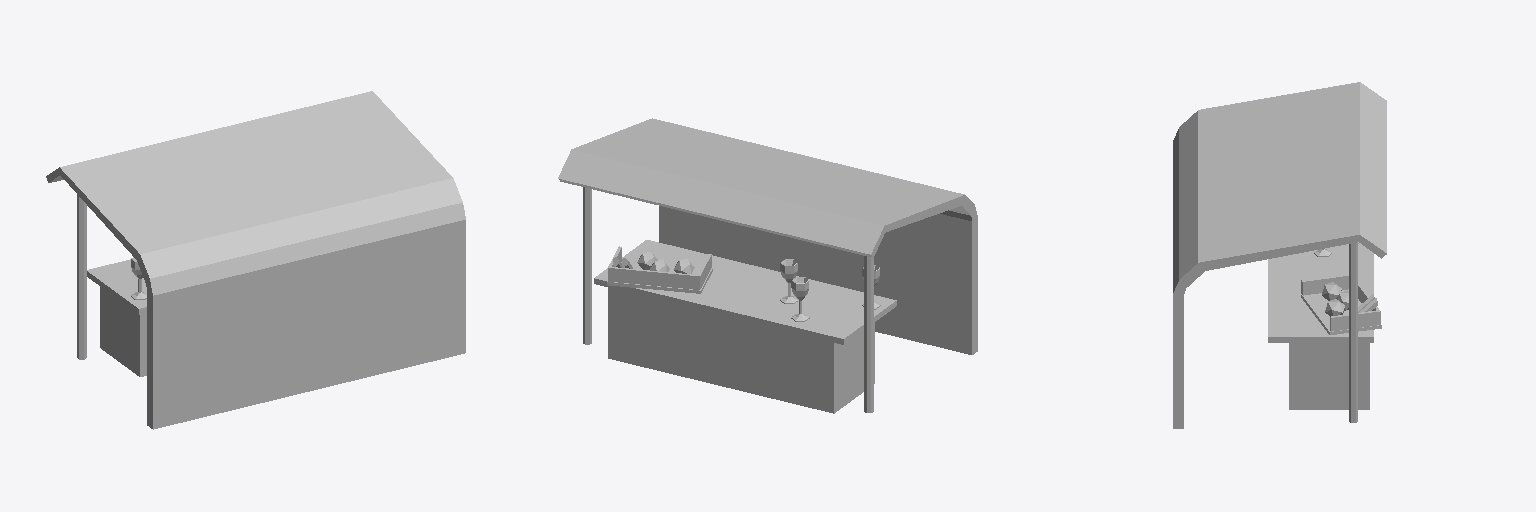
Rendered from stall.obj.
3 renders of one model, left to right at view 1: azimuth 30°, elevation 25°; view 2: azimuth 150°, elevation 25°; view 3: azimuth 270°, elevation 25°, orthographic.
Visible parts, largest first — view 1: Mesh; view 2: Mesh; view 3: Mesh.
Part boxes in pixels (x1,y1,x2,y2): Mesh: (46,91,465,429); Mesh: (558,118,977,413); Mesh: (1173,82,1386,428).
Size of the model in its own units: 1.34 by 0.7976 by 0.7937.